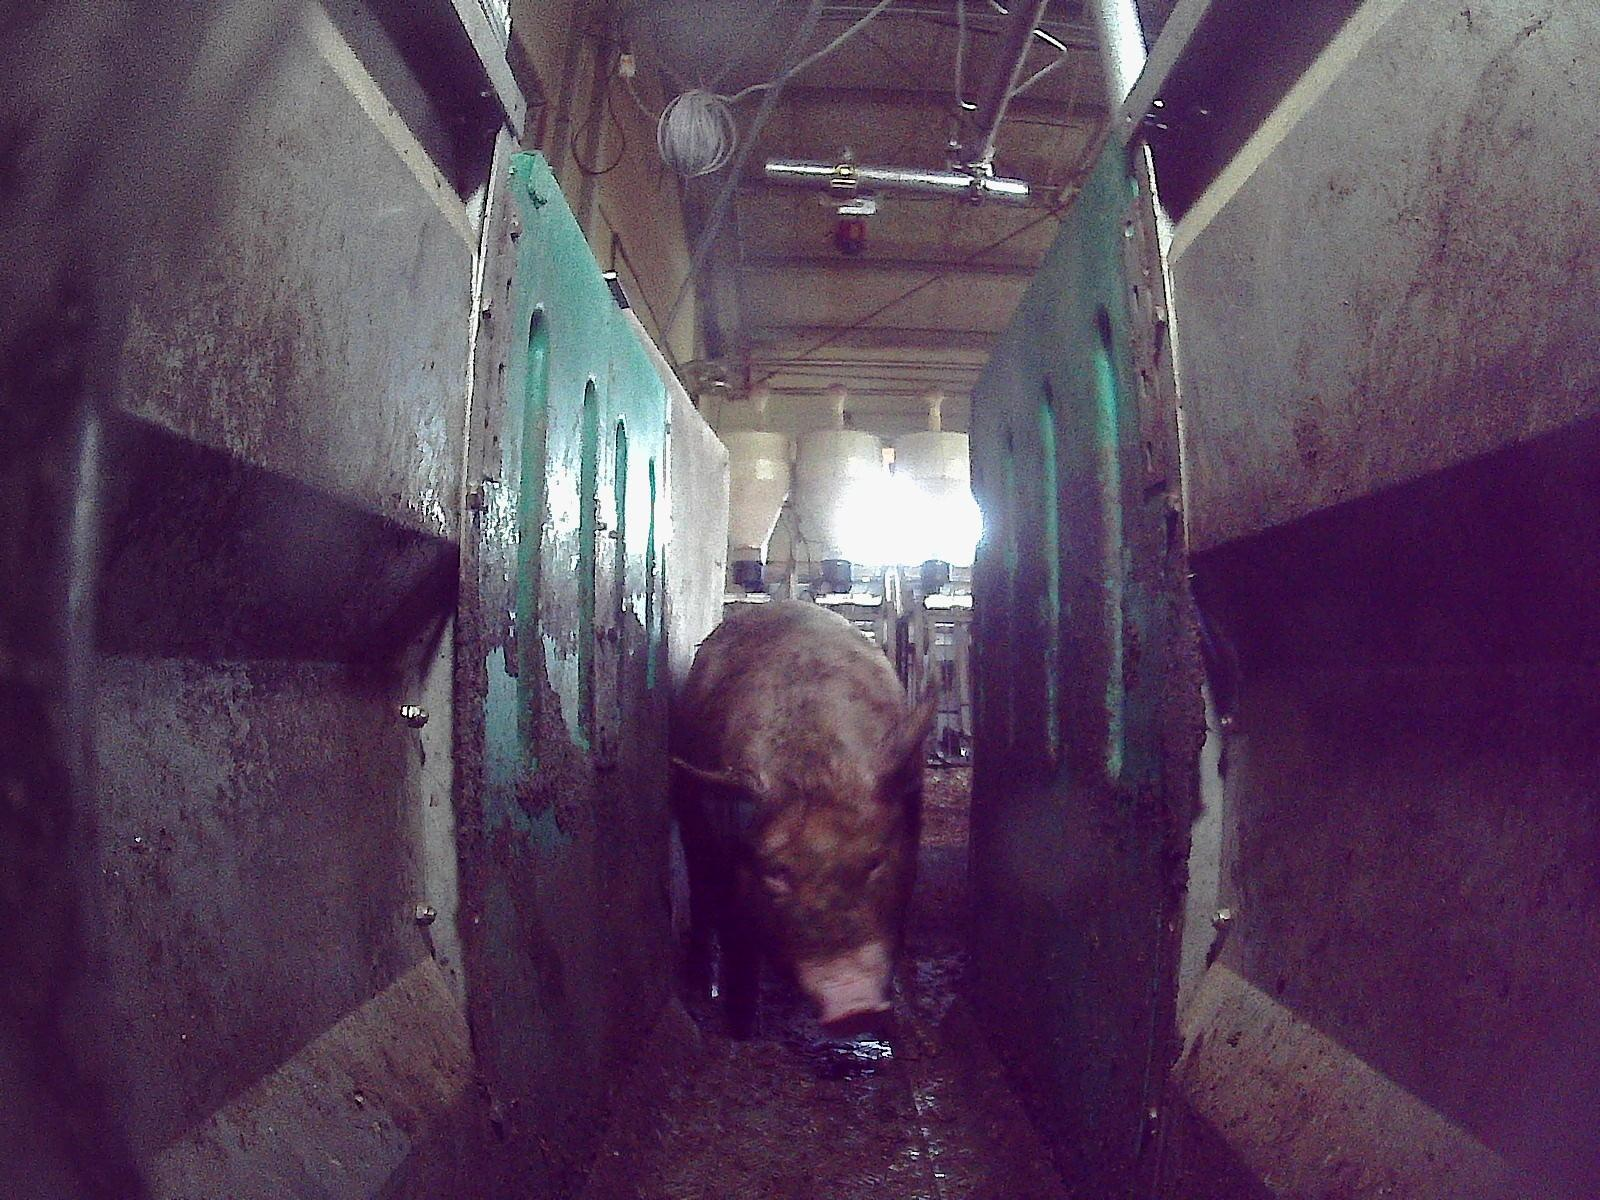Face: (728, 767, 905, 1032)
